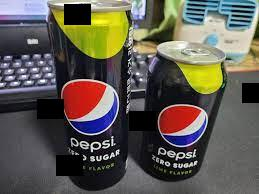pepsi_zero: (142, 33, 230, 187)
